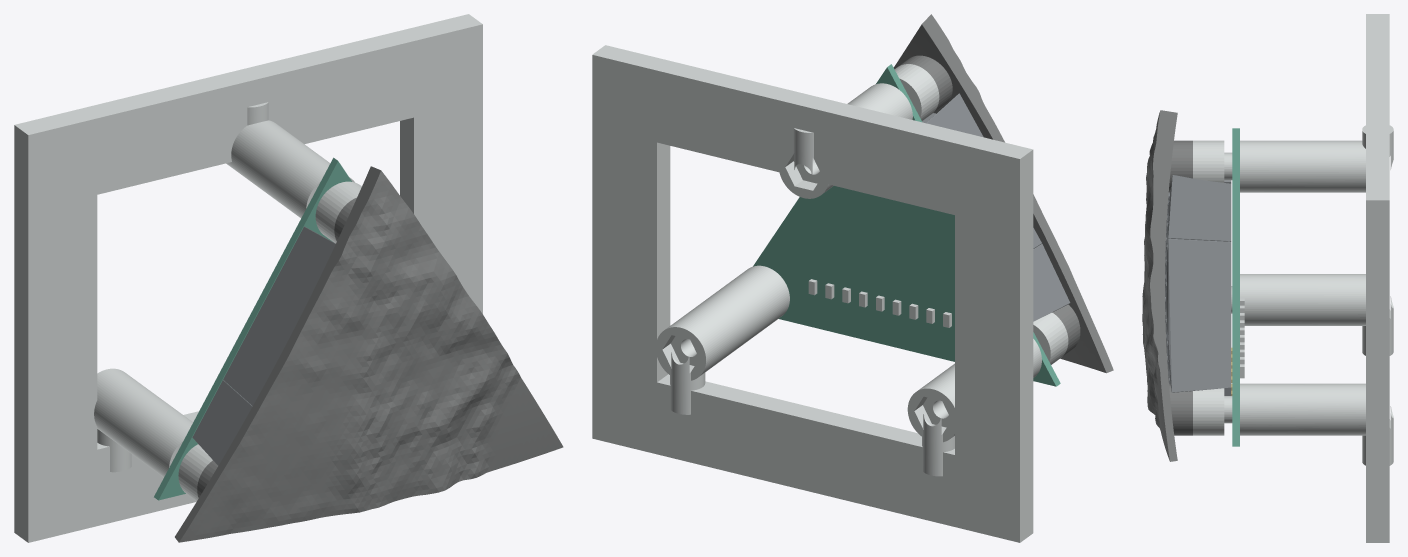
The model's file is prototype.glb.
3 views of the same model, side by side, from view 1: azimuth 30°, elevation 25°; view 2: azimuth 150°, elevation 25°; view 3: azimuth 270°, elevation 25° (orthographic). The views are drawn at different scales.
Visible parts, largest first — view 1: sample-A1-cradle, sample-A1-shell, sample-A1-baffle, sample-A1-pcb, sample-A1-seat-2, sample-A1-seat-0; view 2: sample-A1-cradle, sample-A1-pcb, sample-A1-shell, sample-A1-baffle, sample-A1-seat-2, sample-A1-seat-0; view 3: sample-A1-cradle, sample-A1-baffle, sample-A1-shell, sample-A1-pcb, sample-A1-seat-1, sample-A1-seat-2.
Boxes of the visible parts, x1,y1,x2,y2 form: sample-A1-cradle: [14, 14, 482, 542]; sample-A1-shell: [175, 166, 563, 542]; sample-A1-baffle: [192, 226, 335, 465]; sample-A1-pcb: [154, 157, 351, 500]; sample-A1-seat-2: [315, 181, 361, 243]; sample-A1-seat-0: [178, 444, 212, 501]; sample-A1-cradle: [592, 45, 1041, 542]; sample-A1-pcb: [753, 64, 1060, 386]; sample-A1-shell: [893, 14, 1113, 373]; sample-A1-baffle: [922, 93, 1070, 321]; sample-A1-seat-2: [894, 64, 939, 120]; sample-A1-seat-0: [1033, 312, 1068, 364]; sample-A1-cradle: [1240, 14, 1393, 542]; sample-A1-baffle: [1165, 175, 1231, 395]; sample-A1-shell: [1142, 110, 1192, 461]; sample-A1-pcb: [1232, 128, 1239, 446]; sample-A1-seat-1: [1193, 388, 1232, 435]; sample-A1-seat-2: [1193, 140, 1232, 182].
Bounding box in the file's own units: 56 × 48 × 31.91.
